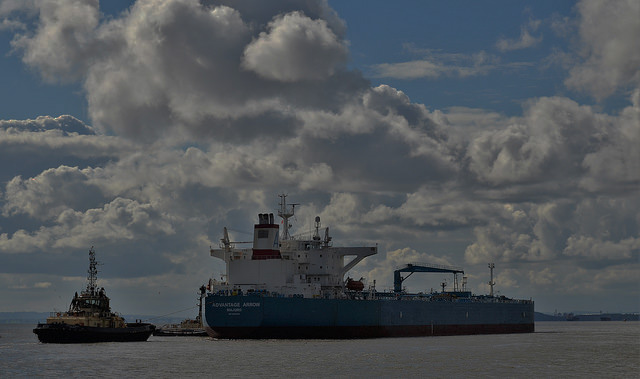tanker: (203, 196, 542, 337)
tug_boat: (32, 250, 150, 343)
